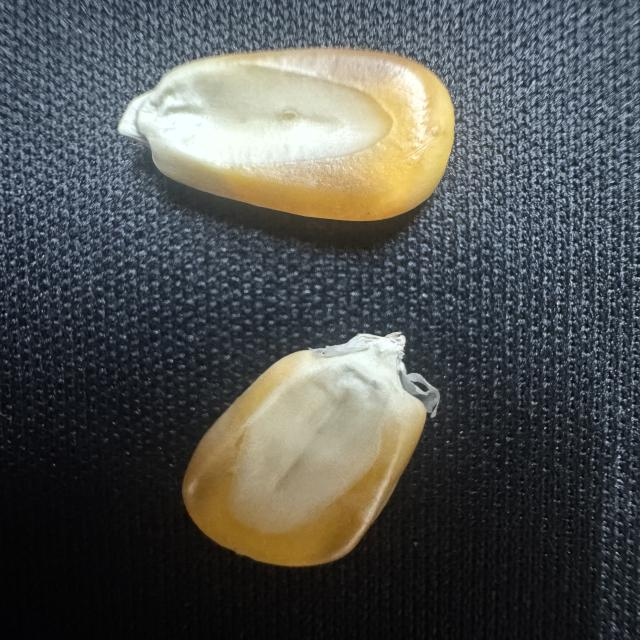Good-Seed: (159, 318, 453, 580), (113, 43, 470, 230)
